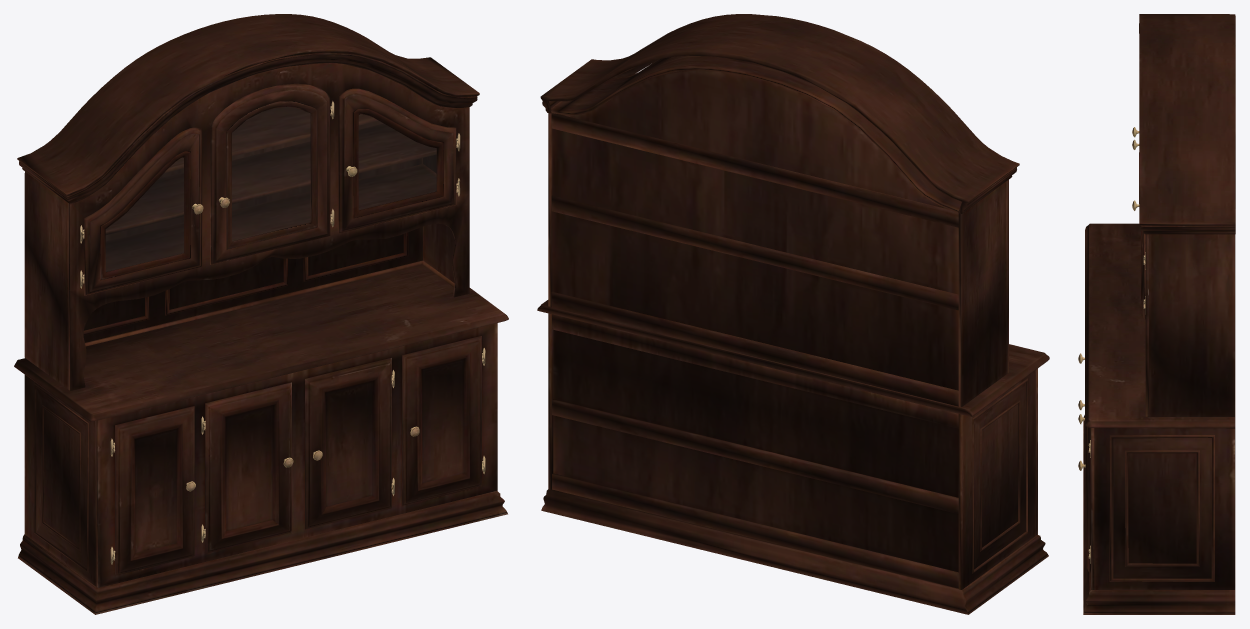
File: vintage_cabinet_01.glb
The picture shows the model from 3 angles, left to right: view 1: azimuth 30°, elevation 25°; view 2: azimuth 150°, elevation 25°; view 3: azimuth 270°, elevation 25°; orthographic projection. The views are drawn at different scales.
Visible parts, largest first — view 1: vintage_cabinet_01_body, vintage_cabinet_01_door_01; view 2: vintage_cabinet_01_body; view 3: vintage_cabinet_01_body.
Part boxes in pixels (<box>): vintage_cabinet_01_body: <box>14,14,508,614</box>; vintage_cabinet_01_door_01: <box>106,107,436,271</box>; vintage_cabinet_01_body: <box>537,14,1049,614</box>; vintage_cabinet_01_body: <box>1078,14,1235,614</box>.
Bounding box in the file's own units: 2.02 × 2.23 × 0.67.
3 materials, 2 textured.
